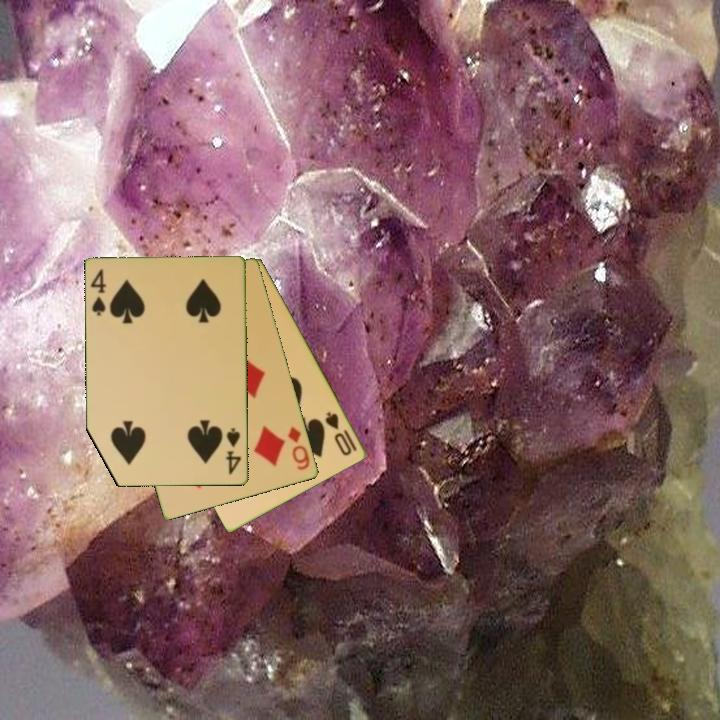10s: (322, 408, 360, 459)
4s: (223, 424, 244, 478), (88, 266, 109, 319)
6d: (285, 423, 313, 473)
